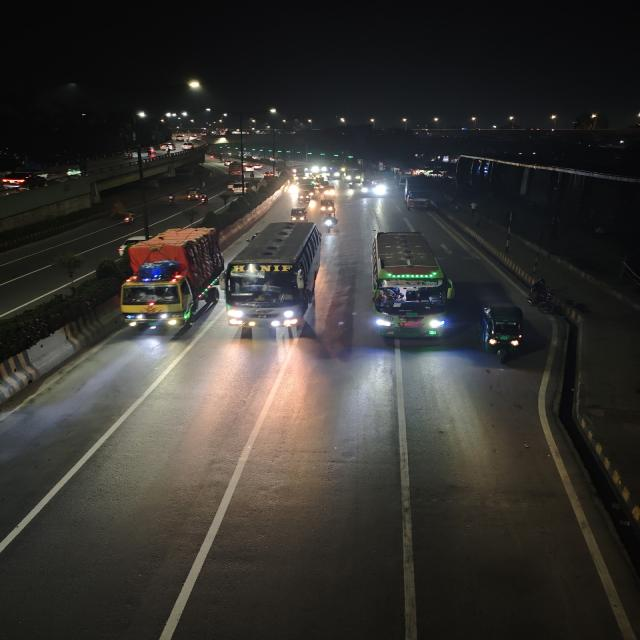bus: (224, 219, 330, 338), (367, 226, 452, 345), (362, 169, 389, 198), (344, 164, 363, 186), (228, 163, 243, 177)
car: (0, 171, 51, 189), (231, 183, 246, 195), (162, 142, 176, 152), (262, 169, 275, 179), (182, 143, 194, 151)
cng: (474, 298, 528, 360), (64, 163, 87, 178), (288, 206, 308, 222), (318, 198, 337, 214)
motorcycle: (526, 277, 560, 314), (108, 199, 138, 227), (322, 214, 340, 234), (193, 189, 210, 206), (163, 191, 178, 206)
truck: (116, 225, 226, 335), (400, 175, 433, 213), (295, 178, 316, 198)
